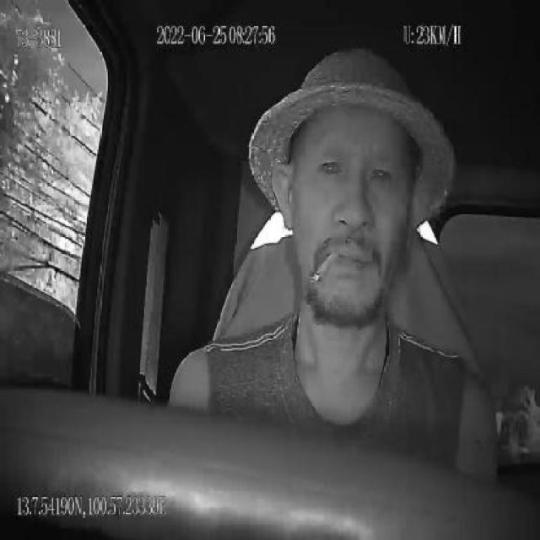smoking: (311, 246, 340, 286)
